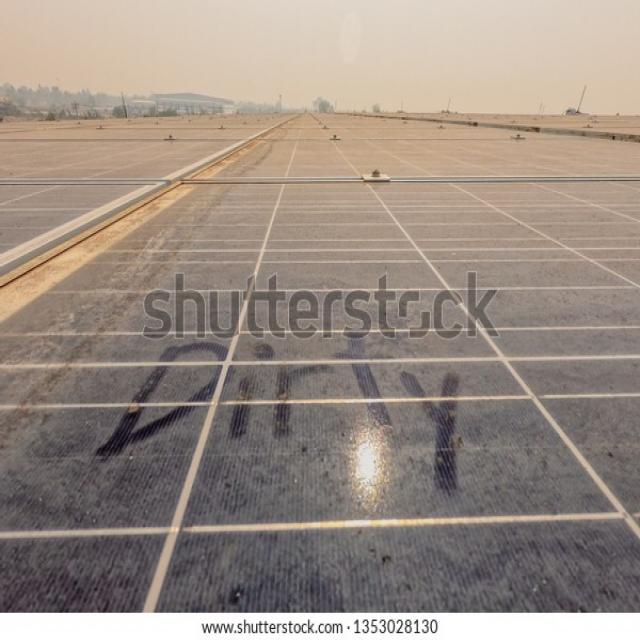faulty: (10, 175, 640, 615)
